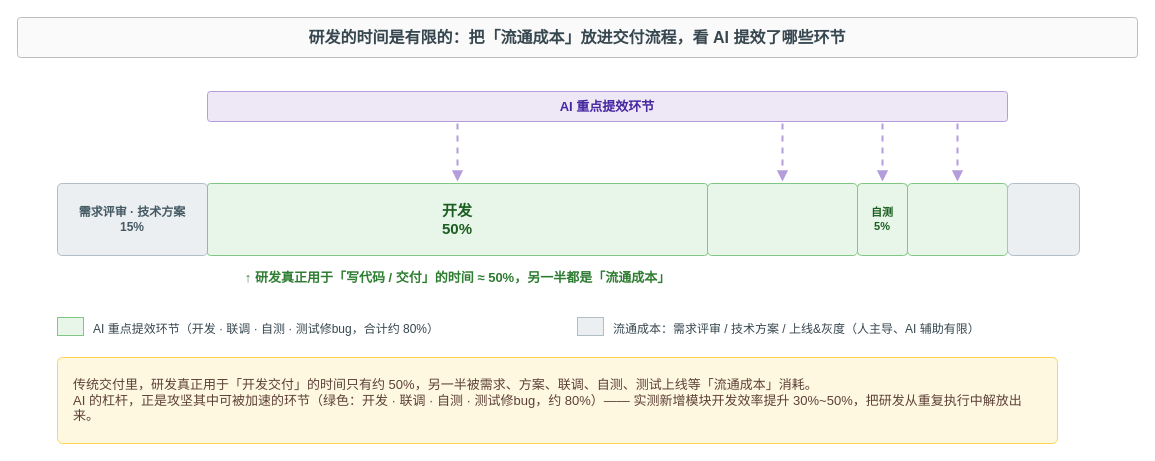
The diagram is 1155 pixels wide and 461 high, and some of its shapes have lost their labels. Each missing label, with the box of its shape:
上线&灰度 5%: (1006, 182, 1080, 256)
测试修bug 10%: (906, 182, 1008, 256)
联调 15%: (706, 182, 858, 256)
